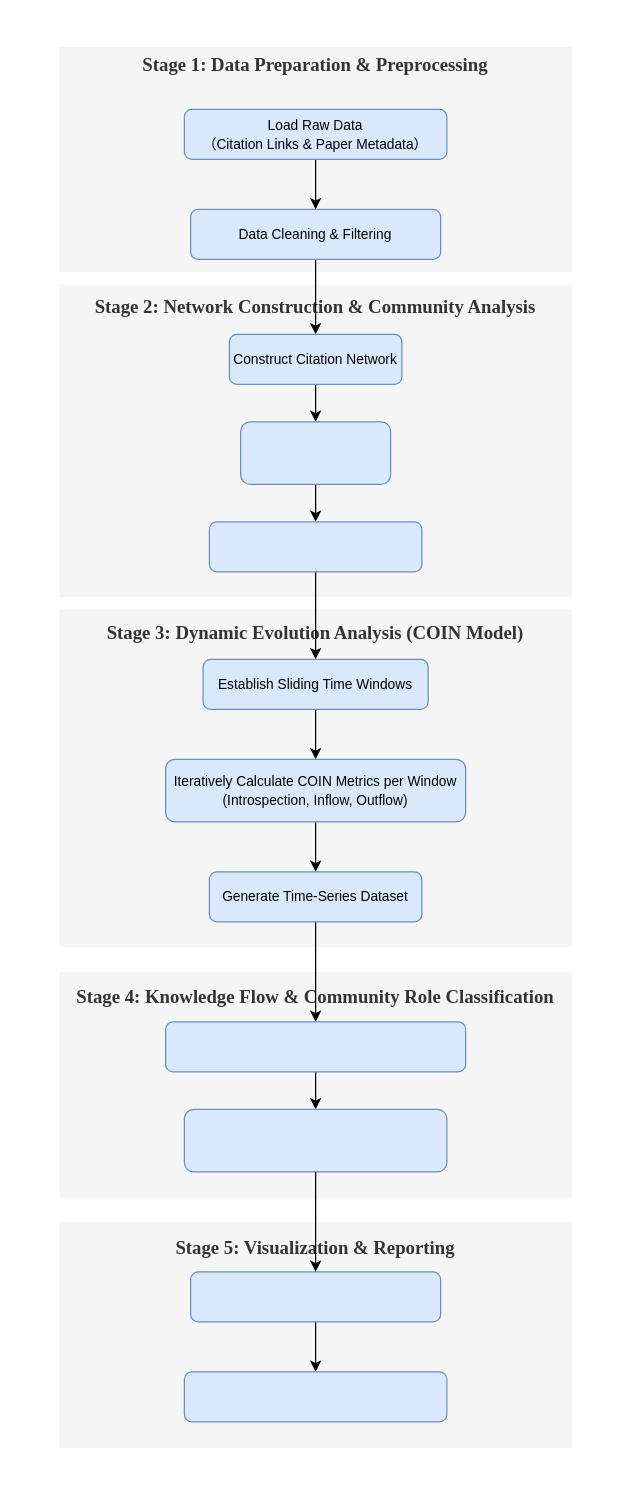
Image size: 630x1493. Some labels were removed from this diagram. The centre of each missing label's shape, as x and y in pixels:
"Analyze Cross-Community Knowledge Flow" goes at (315,1046).
"Classify Community Roles & Evolution (Hub, Exporter, Growing, etc.)" goes at (315,1140).
"Community Detection (Leiden Algorithm)" goes at (315,452).
"Community Thematic Analysis (TF-IDF & LDA)" goes at (315,546).
"Generate Visualizations (Evolution Trajectories, Heatmaps, etc.)" goes at (315,1296).
"Produce Final Analysis Report & Data" goes at (315,1396).
